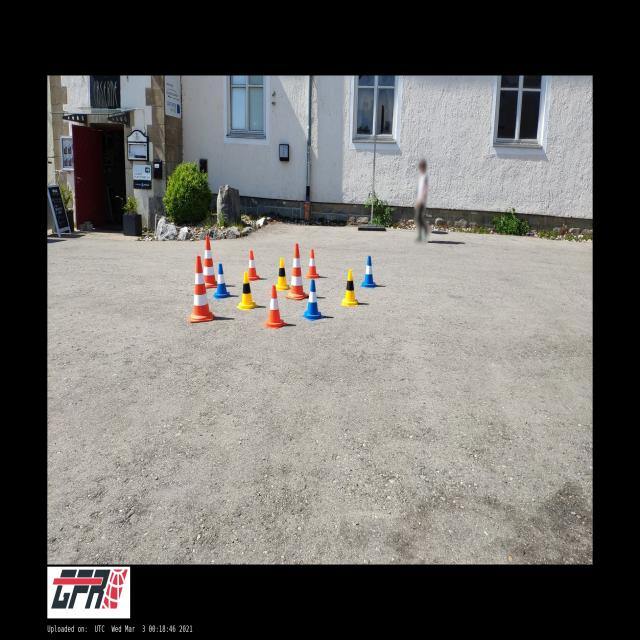blue_cone: (301, 280, 324, 321), (213, 264, 231, 299), (360, 256, 377, 289)
large_orange_cone: (190, 255, 213, 322), (285, 243, 309, 300), (204, 237, 217, 288)
orange_cone: (263, 285, 286, 329), (306, 249, 319, 278), (248, 250, 259, 280)
yellow_cone: (237, 272, 258, 310), (342, 270, 358, 306), (276, 258, 290, 290)
